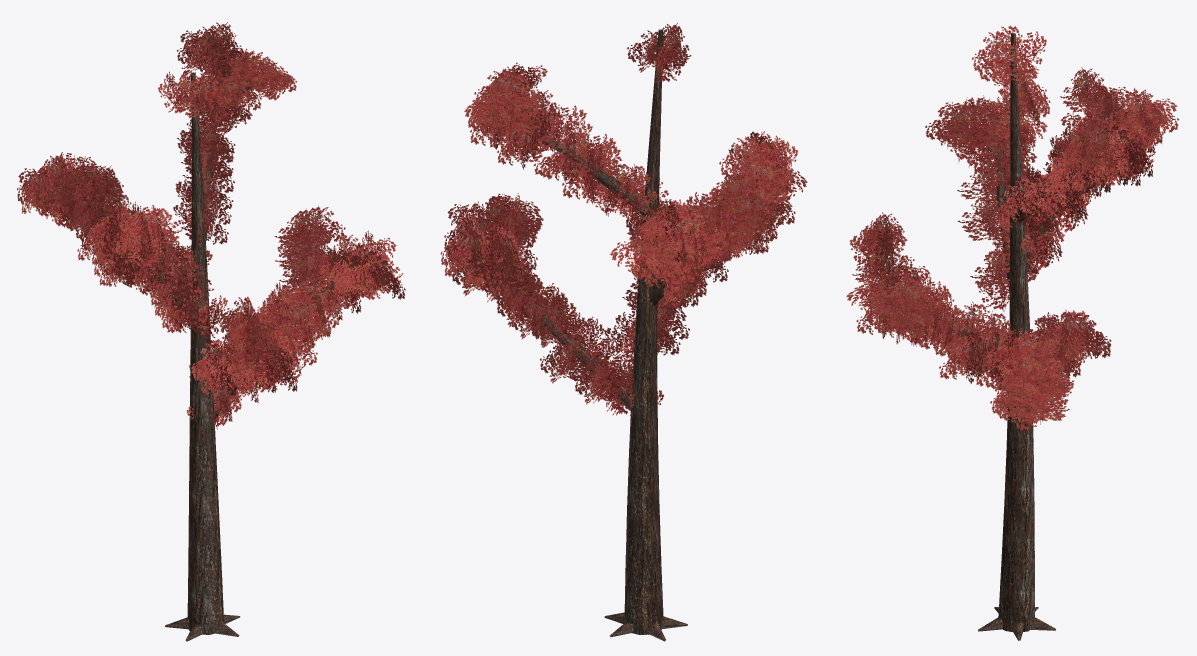
The model's file is tree_3d_06_red_lod0.glb.
3 views of the same model, side by side, from view 1: azimuth 30°, elevation 25°; view 2: azimuth 150°, elevation 25°; view 3: azimuth 270°, elevation 25° (orthographic). The views are drawn at different scales.
Visible parts, largest first — view 1: foliage_cards, wood_geometry; view 2: foliage_cards, wood_geometry; view 3: foliage_cards, wood_geometry.
Part boxes in pixels (box(x1,y1,x2,y2)): foliage_cards: box(17, 22, 405, 431); wood_geometry: box(46, 61, 382, 641); foliage_cards: box(440, 22, 807, 422); wood_geometry: box(475, 29, 772, 641); foliage_cards: box(846, 25, 1179, 430); wood_geometry: box(880, 33, 1155, 640).
Bounding box in the file's own units: 5.21 × 8.1 × 4.24.
Materials: 2 (2 with a texture image).
